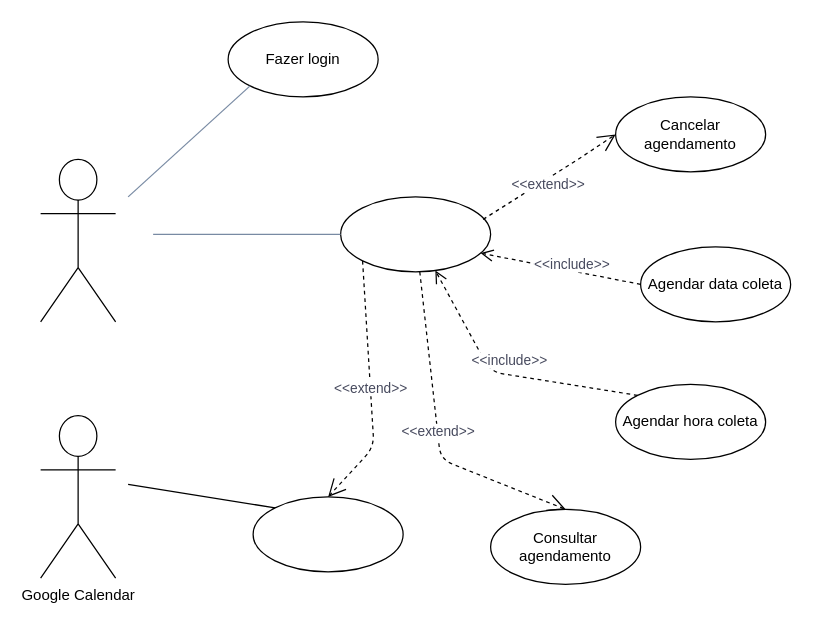
Some shapes in this 813 by 626 pixel diagram are drawn without their labels. Each missing label, with the centre of its shape:
"Enviar agendamento para conta Google" goes at pixel 327 534.
"Realizar agendamento" goes at pixel 415 234.
"Usuário" goes at pixel 77 240.
